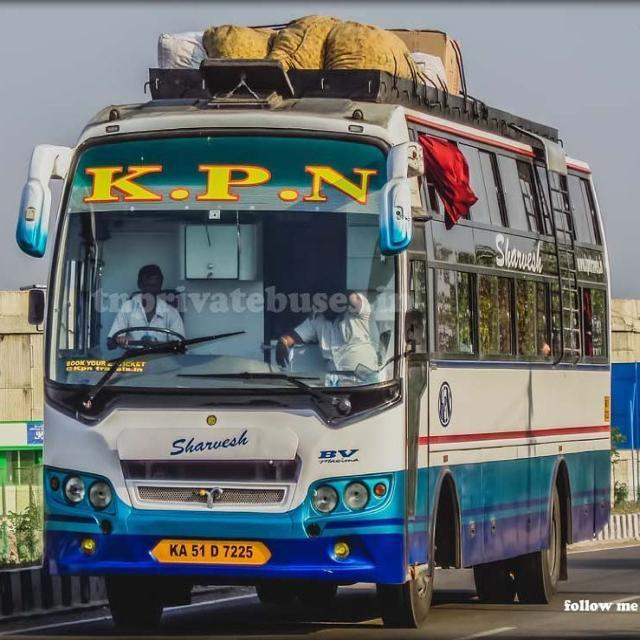Bus: (12, 19, 625, 630)
